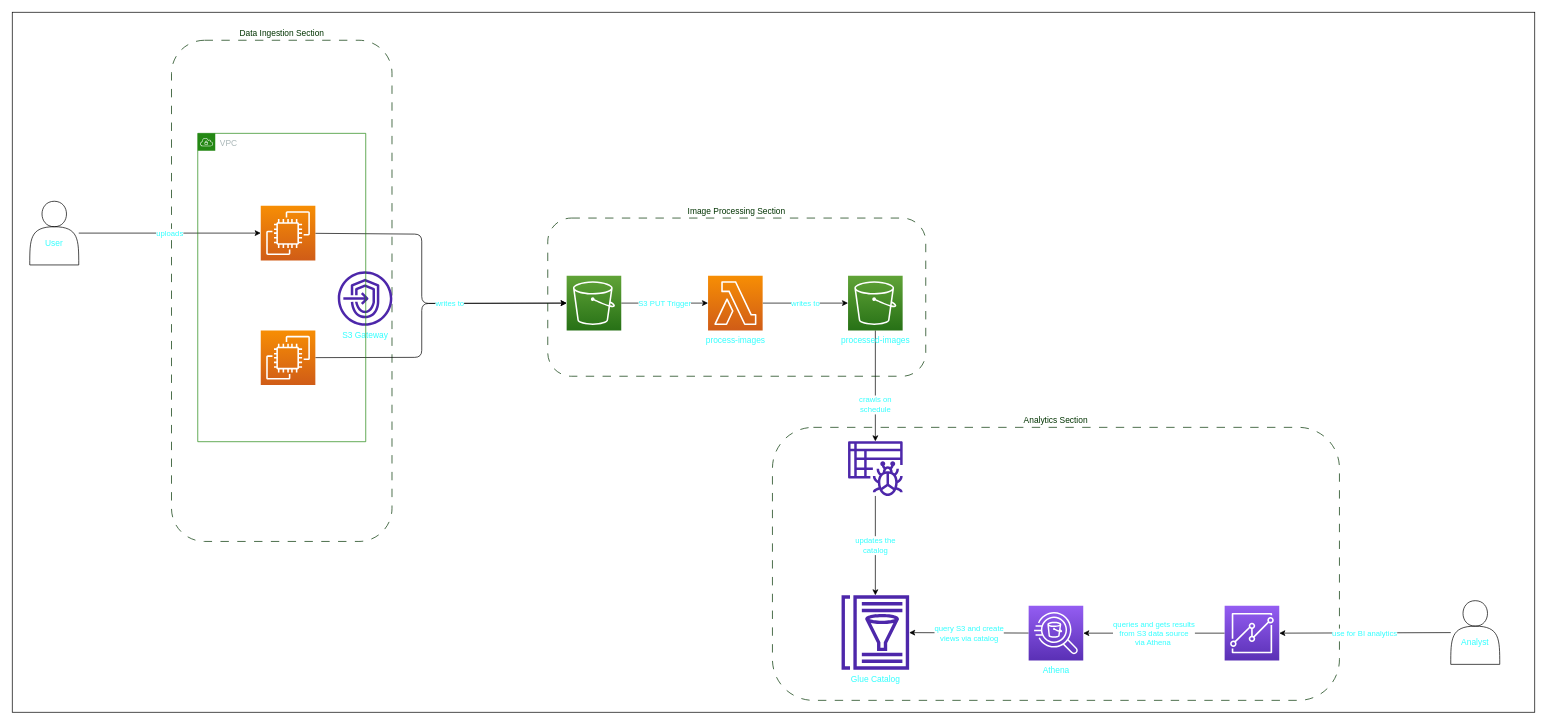
The diagram is 1547 pixels wide and 725 high, and some of its shapes have lost their labels. The shapes that lost their labels are listed below. From the top down, each one's centre as x and y in pixels, then its label:
the point at 287,232: Web Application 1
the point at 593,302: raw-images
the point at 287,357: Web Application 2 (Kafka Server)
the point at 875,468: Crawler
the point at 1251,632: QuickSight
